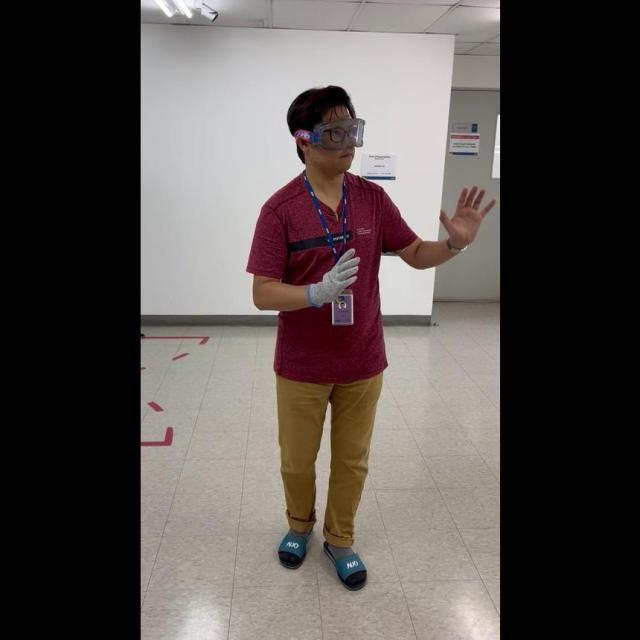bare_hand: (437, 179, 494, 250)
gloved_hand: (301, 244, 365, 308)
